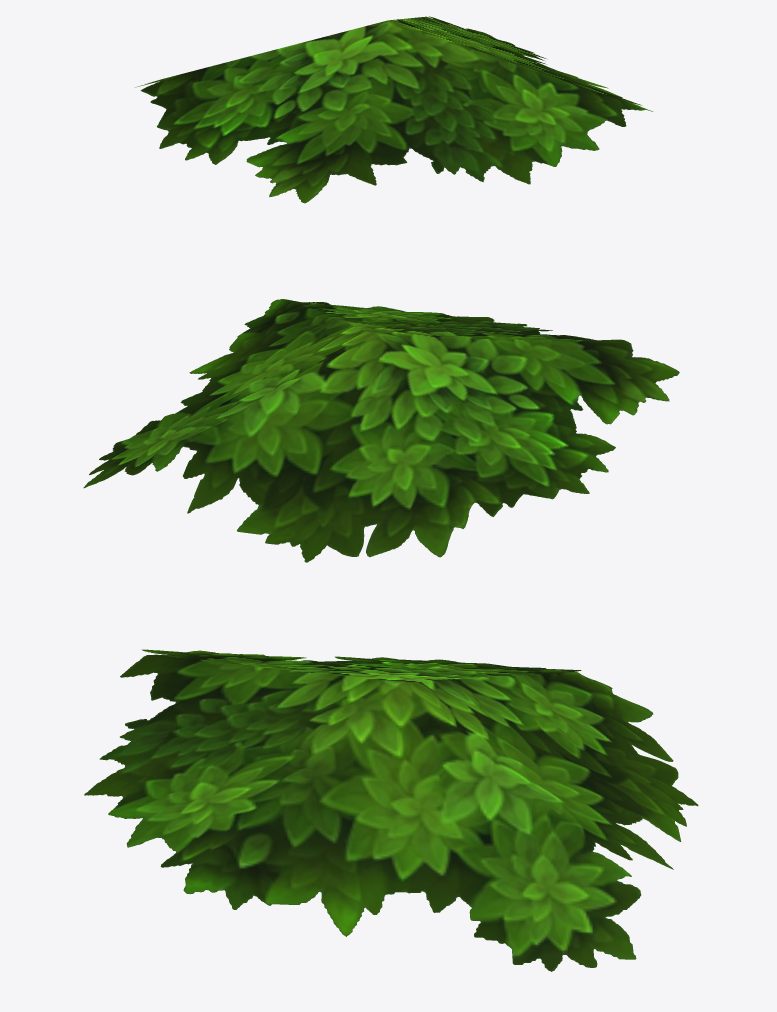
File: 植被灌木03.FBX
3 renders of one model, top to bottom at view 1: azimuth 30°, elevation 25°; view 2: azimuth 150°, elevation 25°; view 3: azimuth 270°, elevation 25°, orthographic. The views are drawn at different scales.
Parts seen in each view (by area): view 1: 植被灌木03; view 2: 植被灌木03; view 3: 植被灌木03.
Boxes of the visible parts, x1,y1,x2,y2 form: 植被灌木03: [135, 16, 653, 203]; 植被灌木03: [83, 299, 679, 562]; 植被灌木03: [84, 649, 698, 971].
Size of the model in its own units: 104 by 27.99 by 101.
